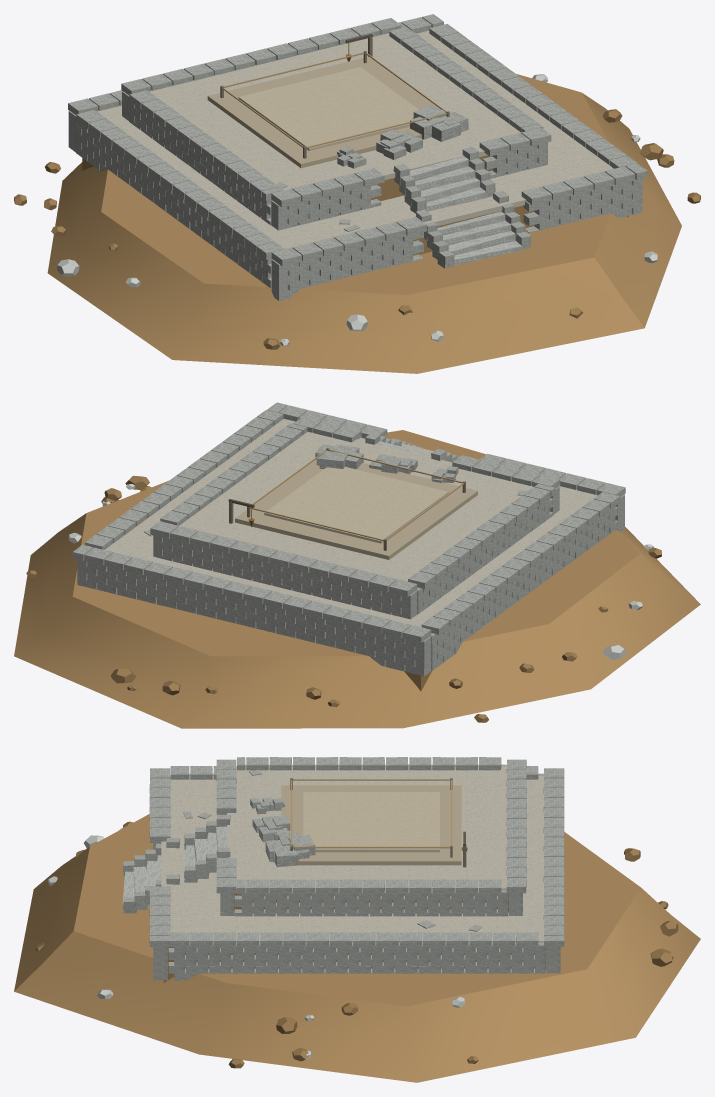
Rendered from lin-6-site.glb.
The picture shows the model from 3 angles, top to bottom: view 1: azimuth 30°, elevation 25°; view 2: azimuth 150°, elevation 25°; view 3: azimuth 270°, elevation 25°; orthographic projection. The views are drawn at different scales.
Size of the model in its own units: 45.72 by 9.79 by 47.24.
Materials: 15 (10 with a texture image).
